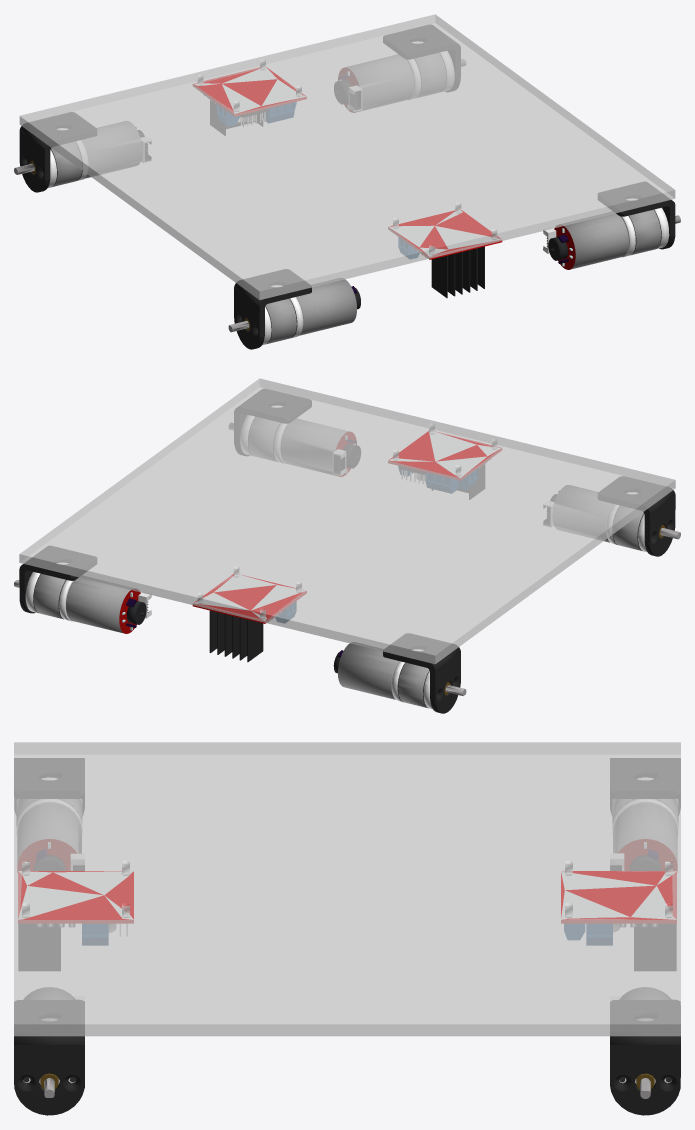
3 views of the same model, one above another, from view 1: azimuth 30°, elevation 25°; view 2: azimuth 150°, elevation 25°; view 3: azimuth 270°, elevation 25° (orthographic). The views are drawn at different scales.
Visible parts, largest first — view 1: BASE01; view 2: BASE01; view 3: BASE01.
Part boxes in pixels (x1,y1,x2,y2): BASE01: (14,14,680,349); BASE01: (14,378,680,713); BASE01: (14,742,680,1115).
Bounding box in the file's own units: 0.2697 × 0.25 × 0.0377.
Materials: 20 (1 with a texture image).
